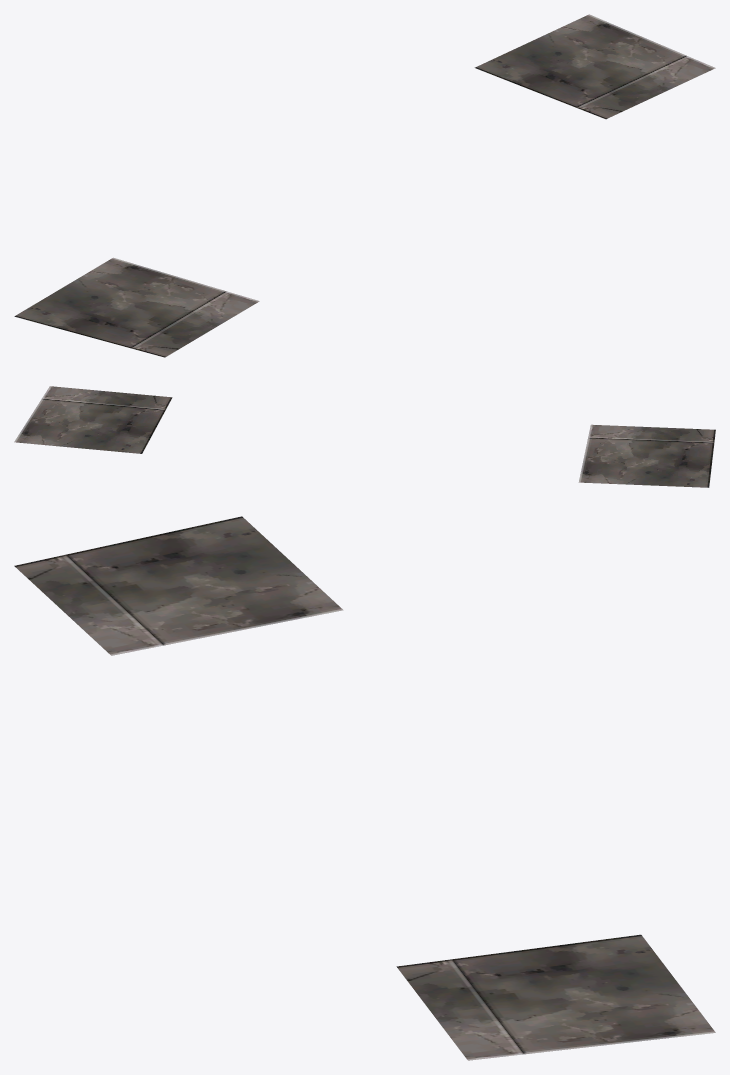
File: CH09_SMAUG_PLAYSURFACE_LAIR147.fbx
3 views of the same model, one above another, from view 1: azimuth 30°, elevation 25°; view 2: azimuth 150°, elevation 25°; view 3: azimuth 270°, elevation 25° (orthographic). The views are drawn at different scales.
Parts seen in each view (by area): view 1: CH09_SMAUG_PLAYSURFACE_LAIR147; view 2: CH09_SMAUG_PLAYSURFACE_LAIR147; view 3: CH09_SMAUG_PLAYSURFACE_LAIR147.
Part boxes in pixels (x1,y1,x2,y2): CH09_SMAUG_PLAYSURFACE_LAIR147: (14, 14, 715, 357); CH09_SMAUG_PLAYSURFACE_LAIR147: (14, 386, 715, 487); CH09_SMAUG_PLAYSURFACE_LAIR147: (14, 516, 715, 1060).
Bounding box in the file's own units: 55355 × 0.00491 × 30165.
Materials: 1 (1 with a texture image).
